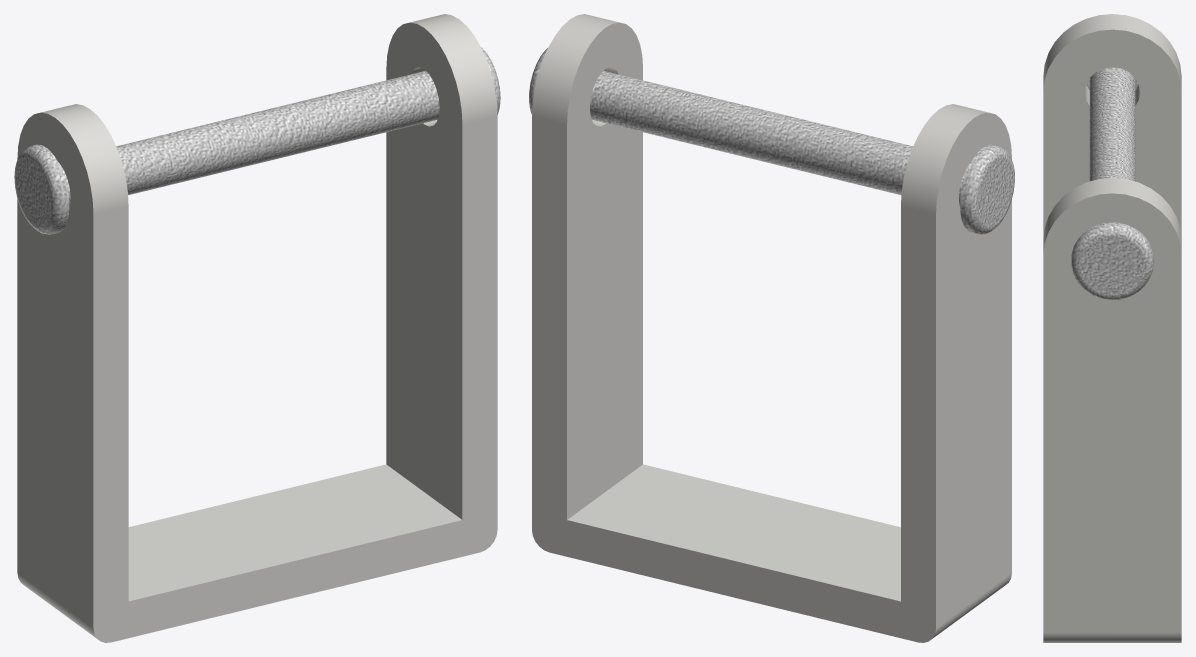
The model's file is Clamp-Primary.gltf.
3 renders of one model, left to right at view 1: azimuth 30°, elevation 25°; view 2: azimuth 150°, elevation 25°; view 3: azimuth 270°, elevation 25°, orthographic. The views are drawn at different scales.
Parts seen in each view (by area): view 1: Solid1; view 2: Solid1; view 3: Solid1.
Boxes of the visible parts, x1,y1,x2,y2 form: Solid1: (14, 14, 500, 642); Solid1: (529, 14, 1014, 642); Solid1: (1043, 14, 1181, 642).
Size of the model in its own units: 0.102 by 0.109 by 0.03.
2 materials, 1 textured.
